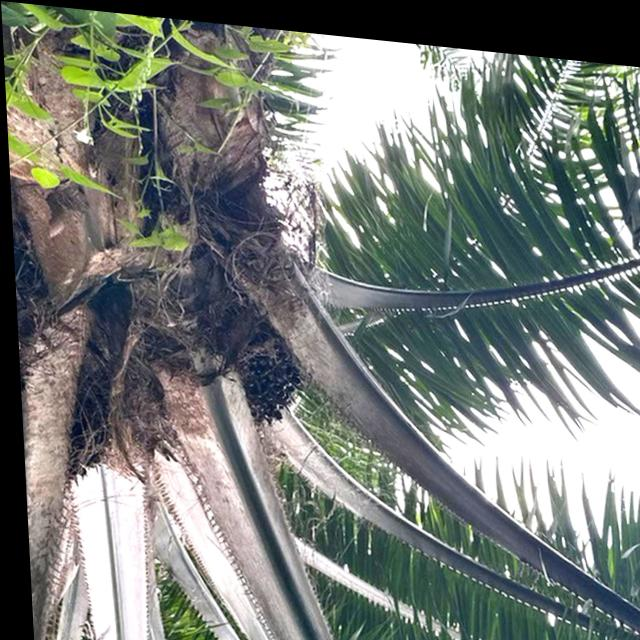unripe: (209, 298, 316, 440)
